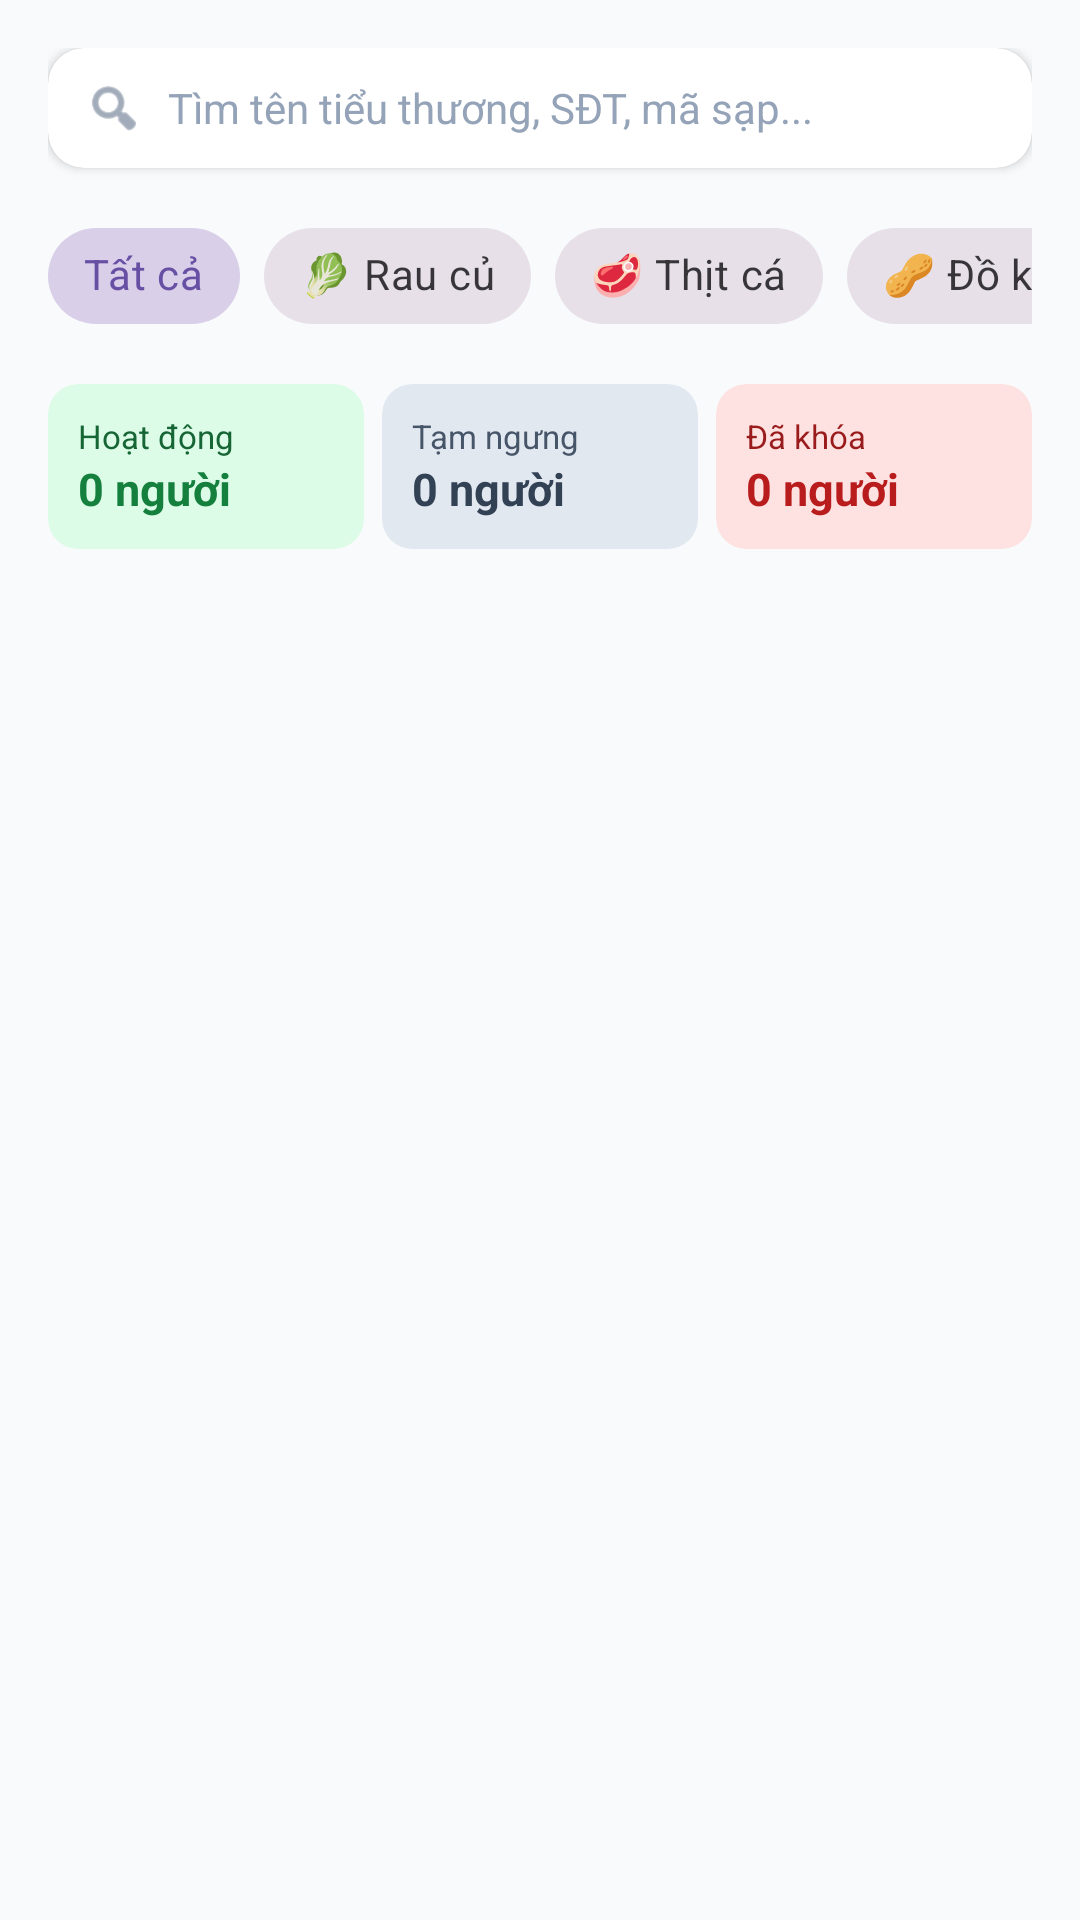

Named icons in this screenshot (1080×1920) and their bounding boxes, [left=x1, top=y1, right=x2, bottom=y2]:
search: [left=92, top=86, right=136, bottom=130]
